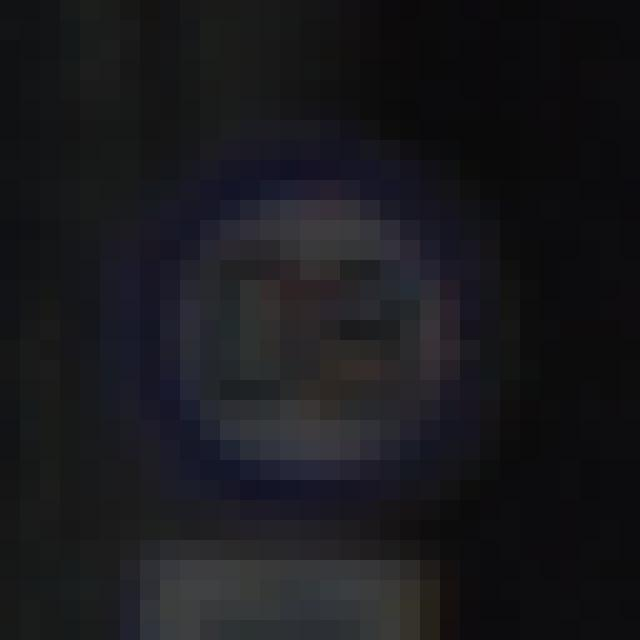SPEED-LIMIT-80: (143, 171, 481, 491)
